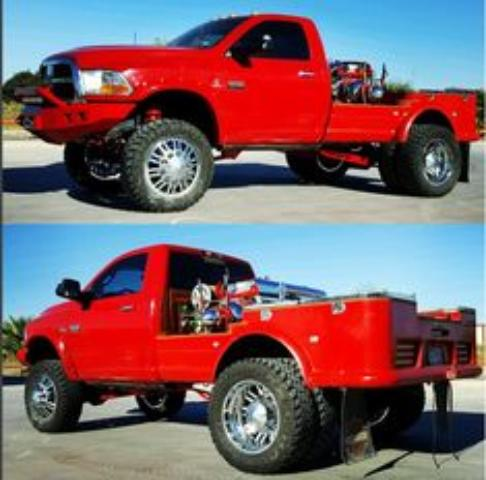pickup-truck: (21, 241, 486, 468), (14, 13, 484, 212)
